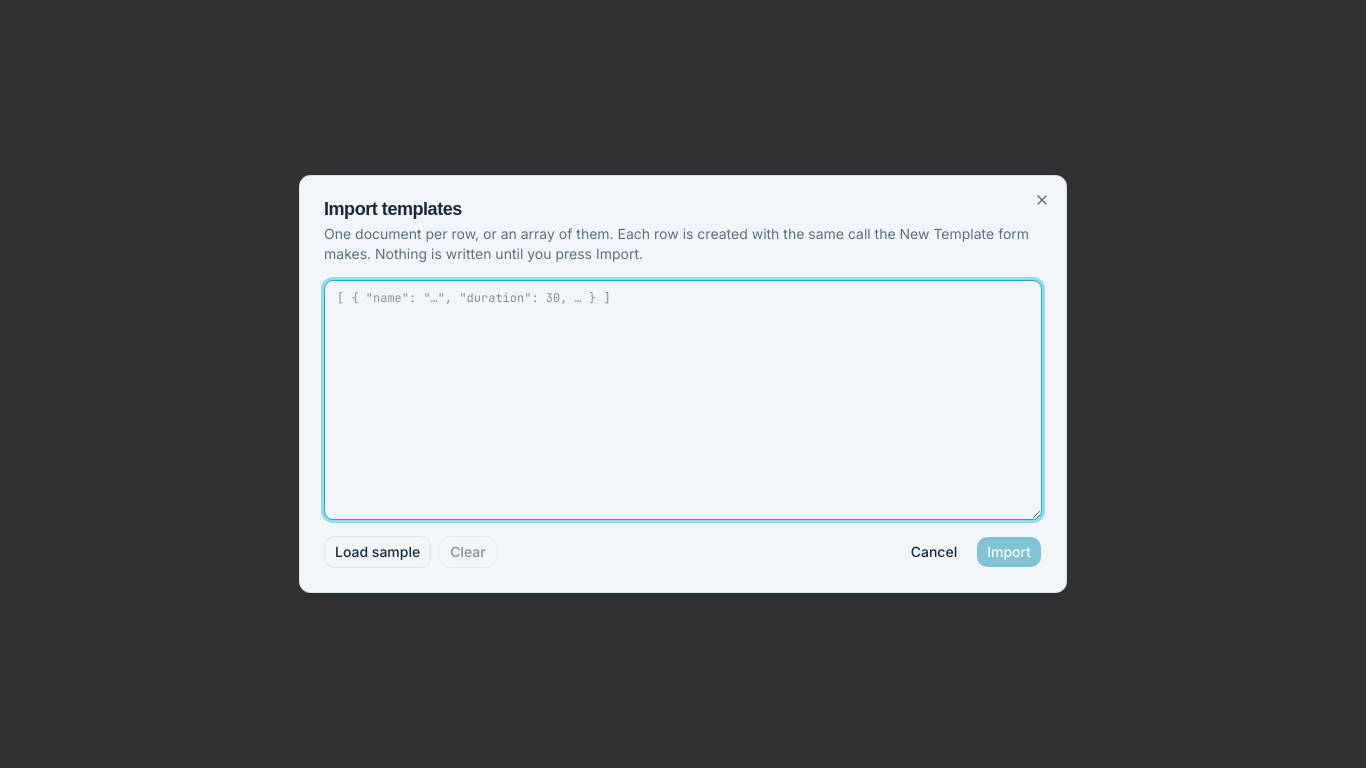
ImportTemplatesModal › says where it stopped when one row fails, and does not claim success
The width and height of the screenshot is (1366, 768).
What coordinates should you click on to do the following:
click the button "Load sample"
I would click on:
 (378, 552)
Its box is [324,536,431,568].
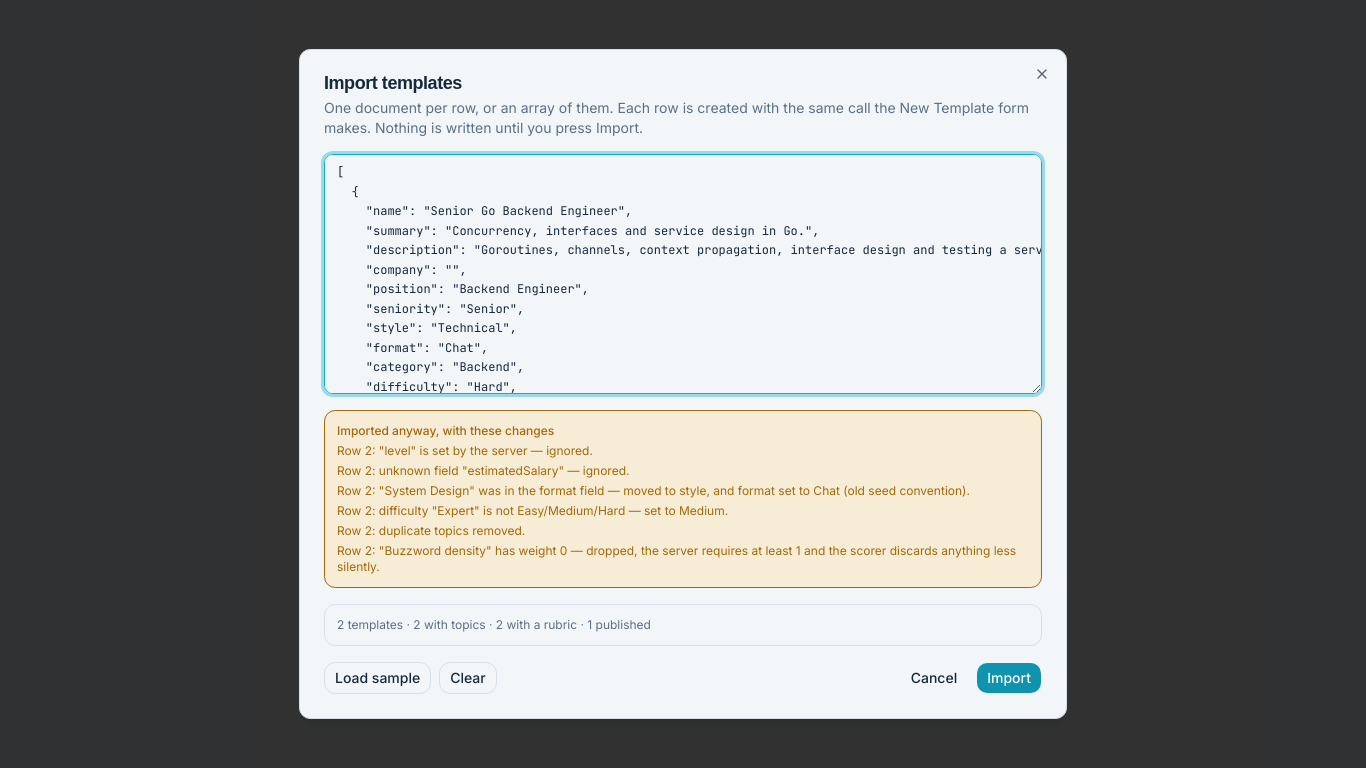
What coordinates should you click on to do the following:
click the button "Import"
I would click on:
 (1009, 678)
Its box is [976,662,1042,694].
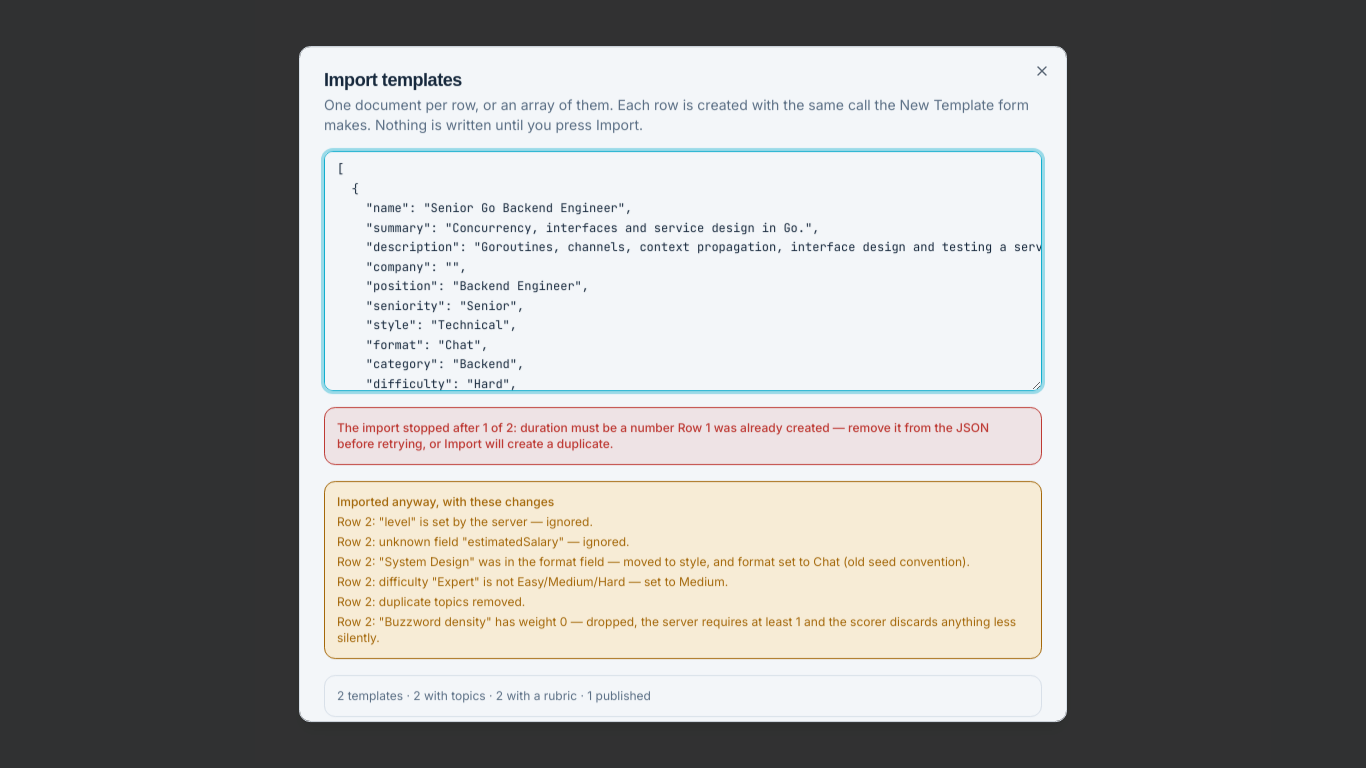
Expected: the text "1 of 2" is shown, [337,420,989,451]
